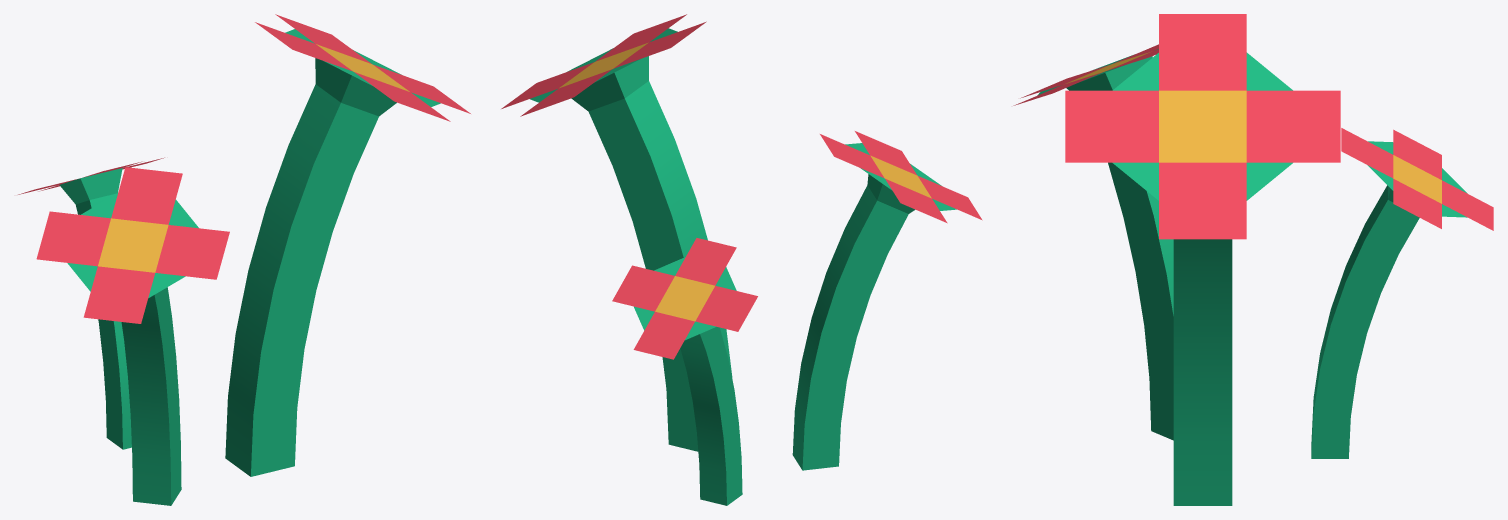
Rendered from d_kenney_fleurs.glb.
3 views of the same model, side by side, from view 1: azimuth 30°, elevation 25°; view 2: azimuth 150°, elevation 25°; view 3: azimuth 270°, elevation 25° (orthographic). The views are drawn at different scales.
Parts seen in each view (by area): view 1: d_kenney_fleurs; view 2: d_kenney_fleurs; view 3: d_kenney_fleurs.
Part boxes in pixels (x1,y1,x2,y2): d_kenney_fleurs: (18, 14, 470, 505); d_kenney_fleurs: (501, 14, 982, 505); d_kenney_fleurs: (1013, 14, 1493, 505).
Size of the model in its own units: 0.4975 by 0.4641 by 0.4168.
1 material, 1 textured.
